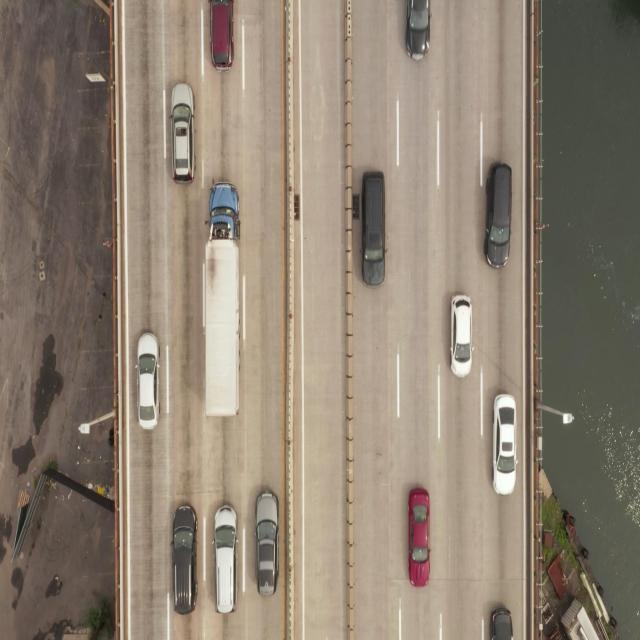Car: (350, 156, 392, 280), (480, 131, 512, 262), (165, 78, 201, 191), (402, 473, 434, 597), (247, 485, 282, 593), (210, 496, 241, 616), (490, 390, 520, 509), (167, 498, 198, 613), (132, 331, 162, 442), (207, 0, 246, 76), (447, 291, 476, 393), (400, 0, 432, 74), (484, 585, 517, 640)
Truck: (199, 174, 255, 423)
